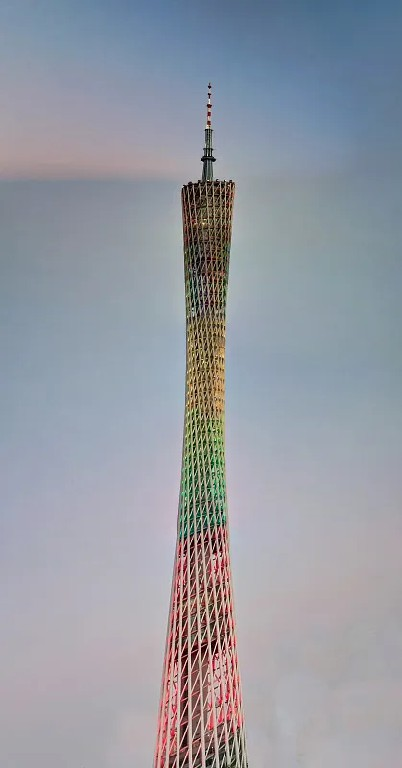Canton: (151, 81, 252, 768)
